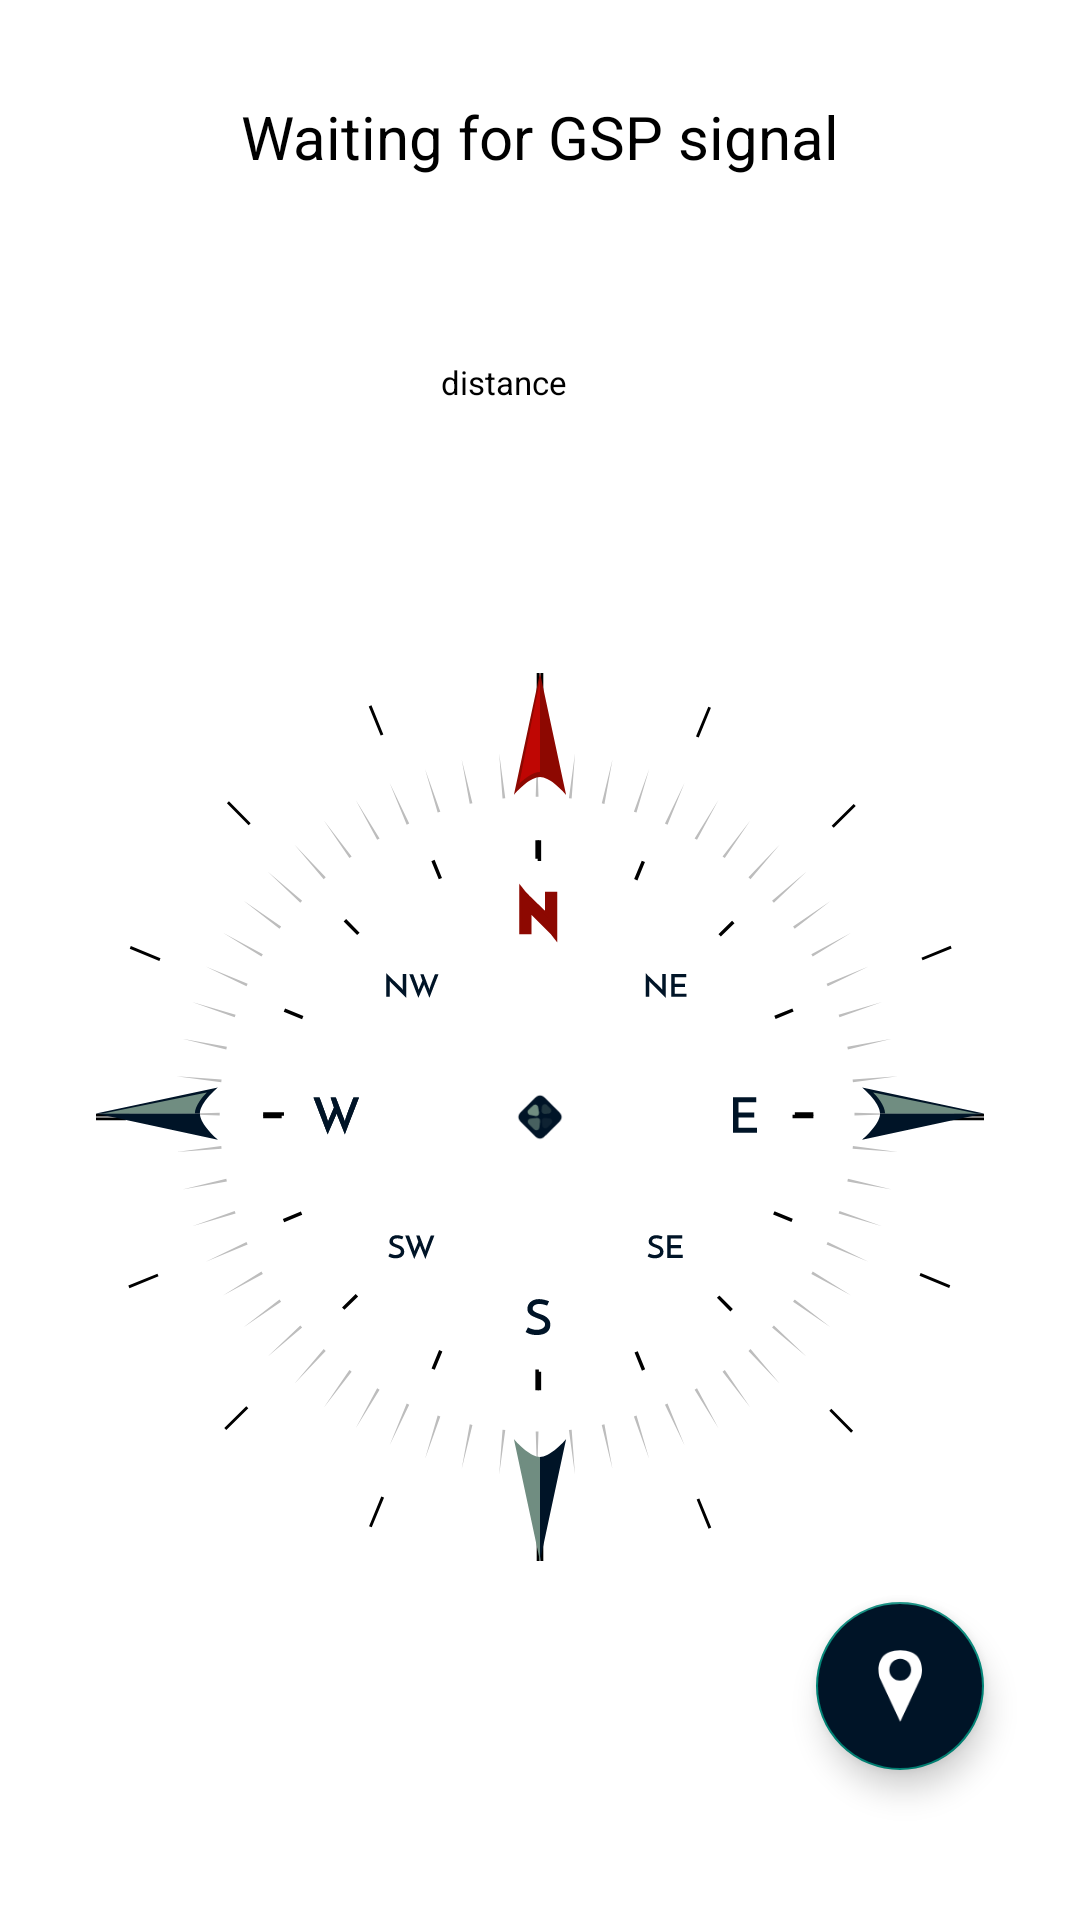

Where icons sit on this 1080px×1920px app screen, as {"left": x1, "top": y1, "right": x2, "bottom": y2}:
pick location: {"left": 816, "top": 1602, "right": 984, "bottom": 1770}
